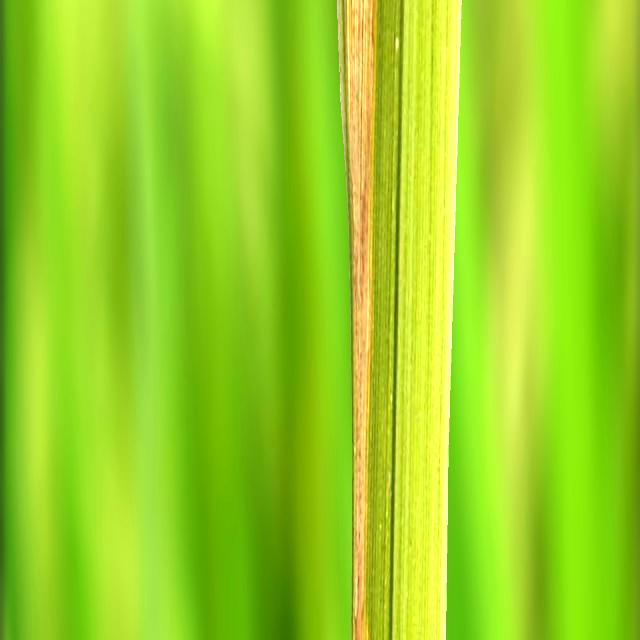BLS: (345, 0, 376, 640)
